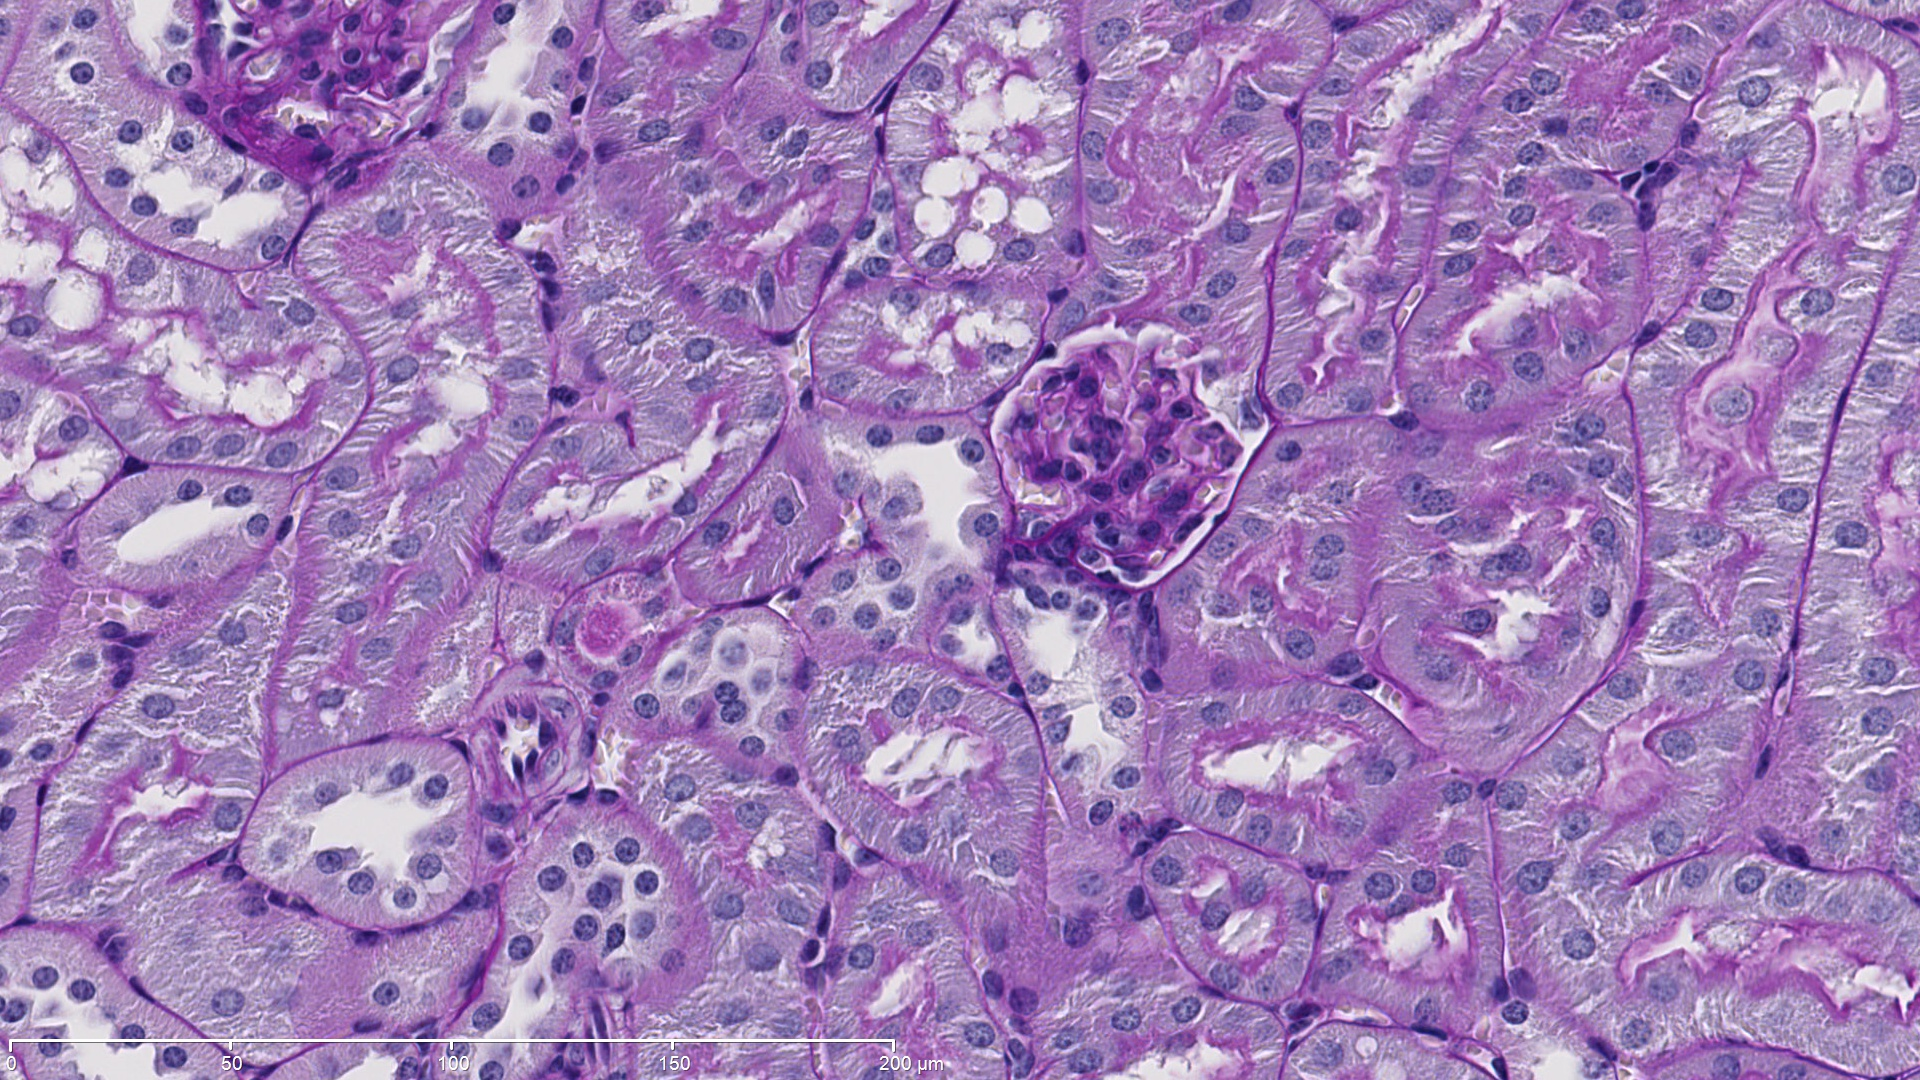Glomeruli: (984, 323, 1257, 582), (179, 1, 467, 200)
